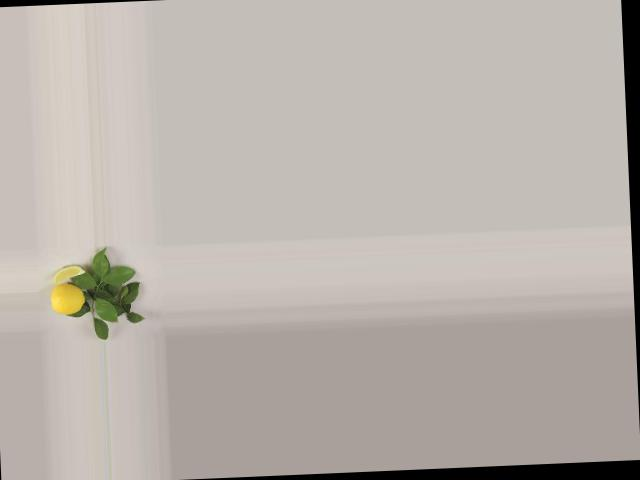lemon: (50, 285, 88, 316)
